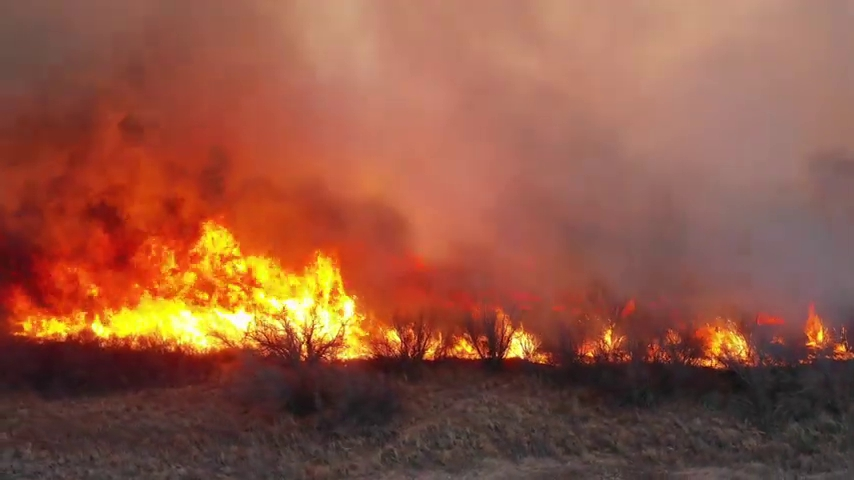forest_fire: (4, 221, 406, 359), (574, 300, 754, 365), (419, 305, 552, 362), (803, 305, 853, 357), (302, 351, 309, 354), (757, 320, 759, 321)
